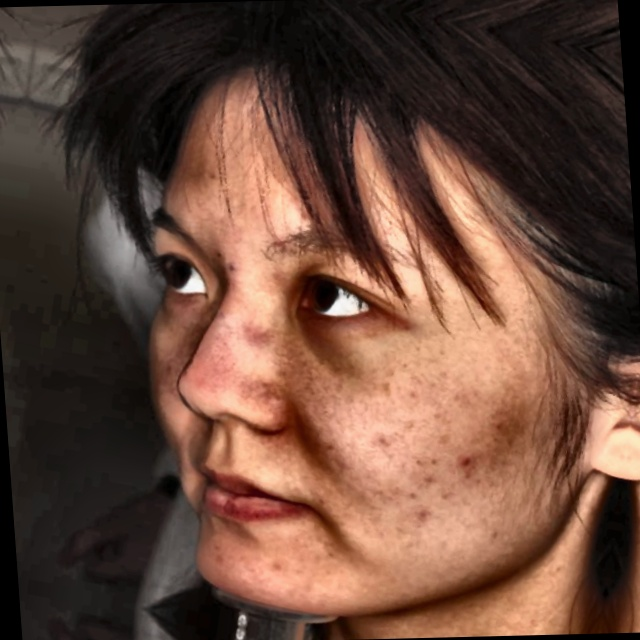comedone: (446, 447, 488, 484)
